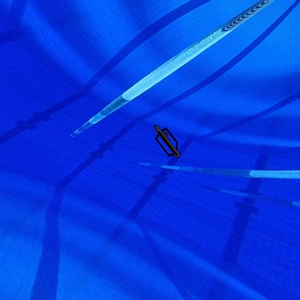submarine: (145, 122, 186, 162)
